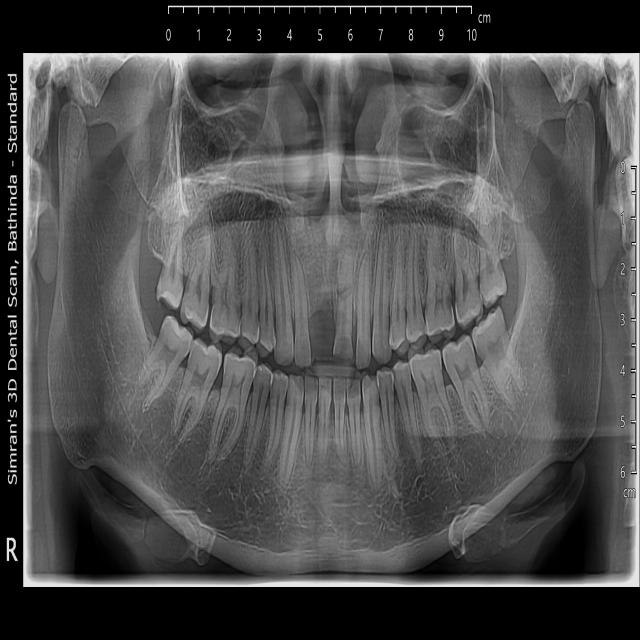Caries: (425, 288, 454, 340)
Missing teeth: (312, 263, 330, 351)
